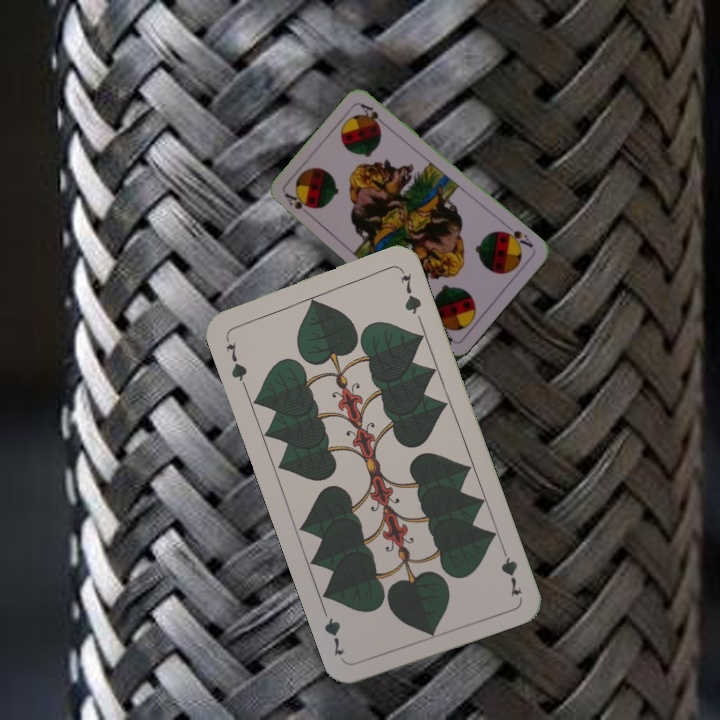G7: (496, 541, 525, 599), (221, 331, 250, 389)
SA: (498, 226, 535, 250), (280, 189, 314, 212)
